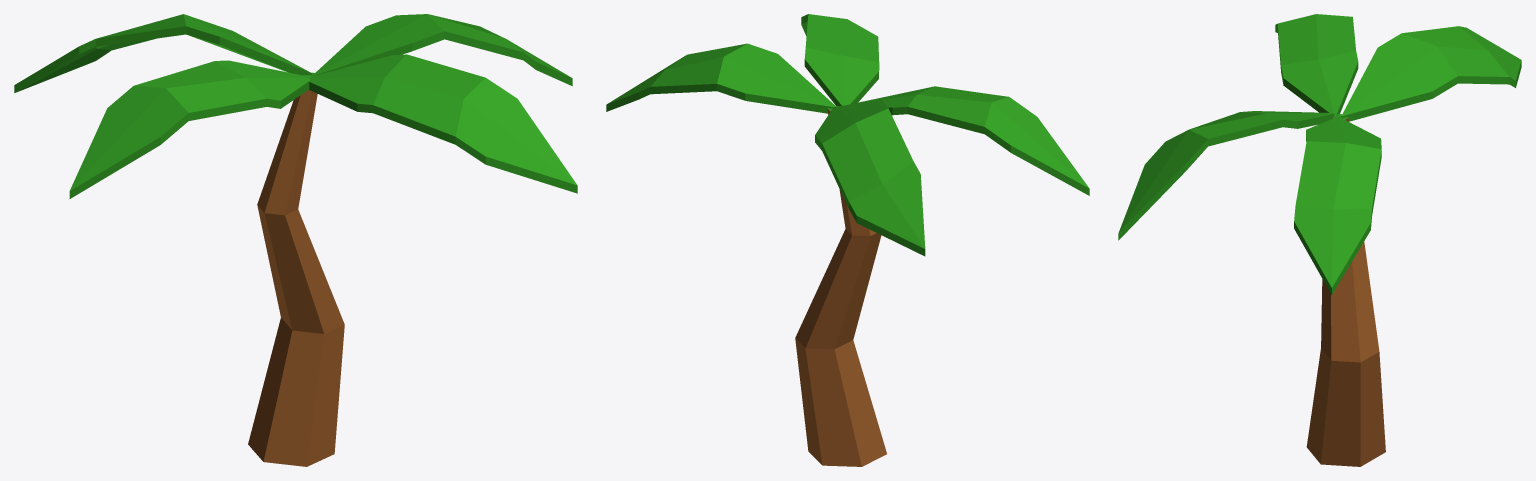
File: PalmTree.fbx
3 views of the same model, side by side, from view 1: azimuth 30°, elevation 25°; view 2: azimuth 150°, elevation 25°; view 3: azimuth 270°, elevation 25° (orthographic). The views are drawn at different scales.
Visible parts, largest first — view 1: Plane.003; view 2: Plane.003; view 3: Plane.003.
Boxes of the visible parts, bbox=[...] form: Plane.003: bbox=[14, 14, 577, 466]; Plane.003: bbox=[606, 14, 1089, 466]; Plane.003: bbox=[1118, 14, 1521, 466].
Size of the model in its own units: 15.52 by 12.07 by 11.47.
